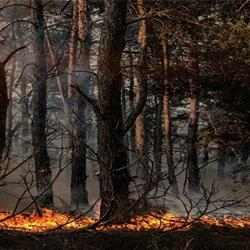fire: (0, 216, 86, 229), (140, 217, 189, 227)
